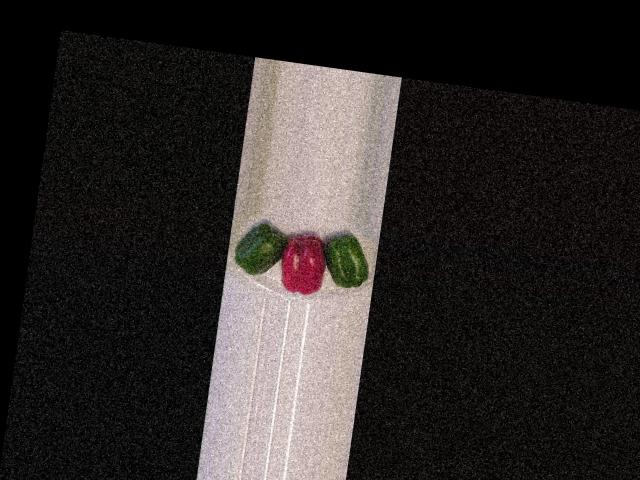bell_pepper: (228, 214, 289, 285)
